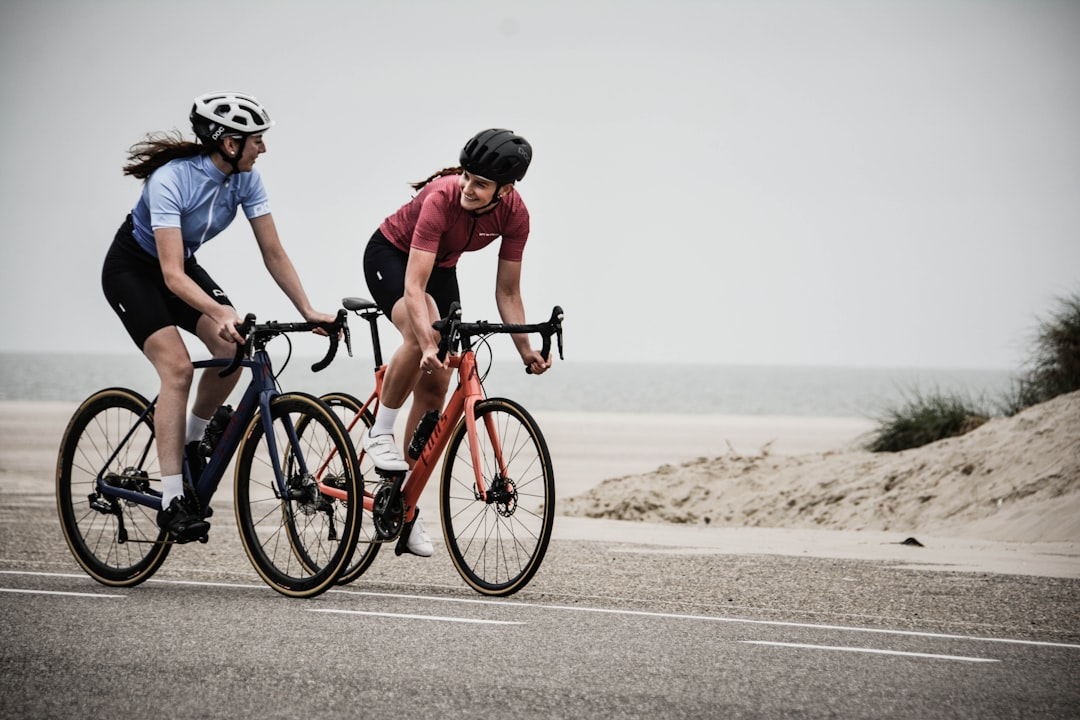bicycle: (38, 310, 572, 593)
